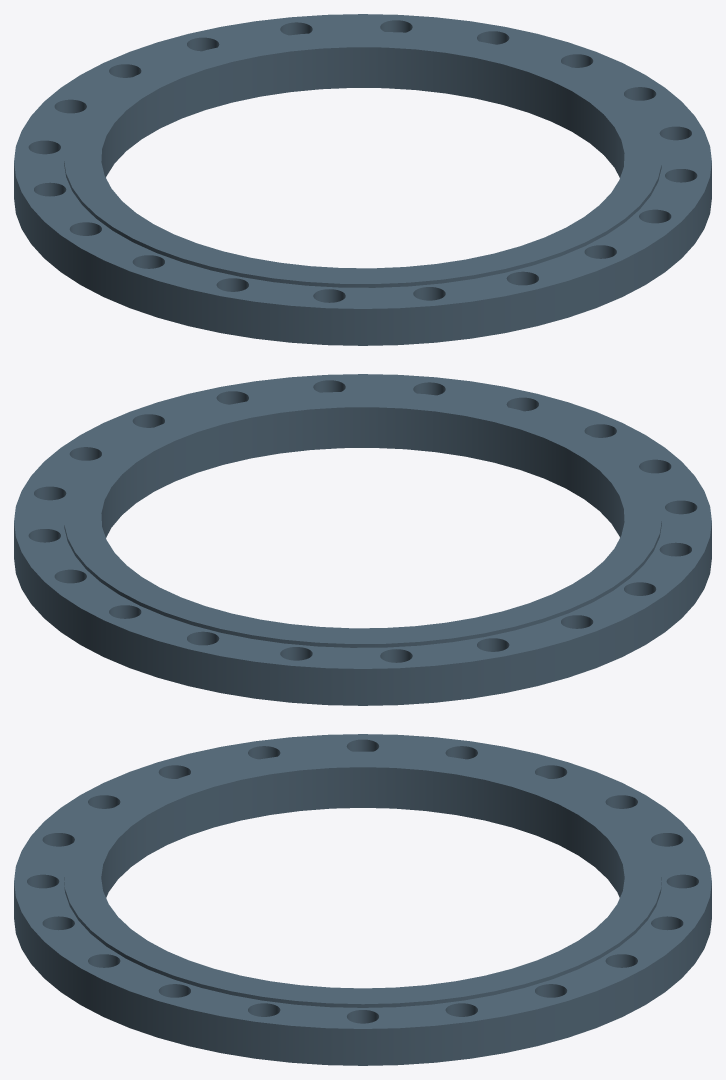
The model's file is flanec-ploskij-DN600-PN25.glb.
3 renders of one model, top to bottom at view 1: azimuth 30°, elevation 25°; view 2: azimuth 150°, elevation 25°; view 3: azimuth 270°, elevation 25°, orthographic.
Visible parts, largest first — view 1: Open CASCADE STEP translator 7.9 57; view 2: Open CASCADE STEP translator 7.9 57; view 3: Open CASCADE STEP translator 7.9 57.
Part boxes in pixels (x1=…): Open CASCADE STEP translator 7.9 57: x1=14, y1=14, x2=711, y2=345; Open CASCADE STEP translator 7.9 57: x1=14, y1=374, x2=711, y2=705; Open CASCADE STEP translator 7.9 57: x1=14, y1=734, x2=711, y2=1065.
Bounding box in the file's own units: 840 × 54 × 840.
